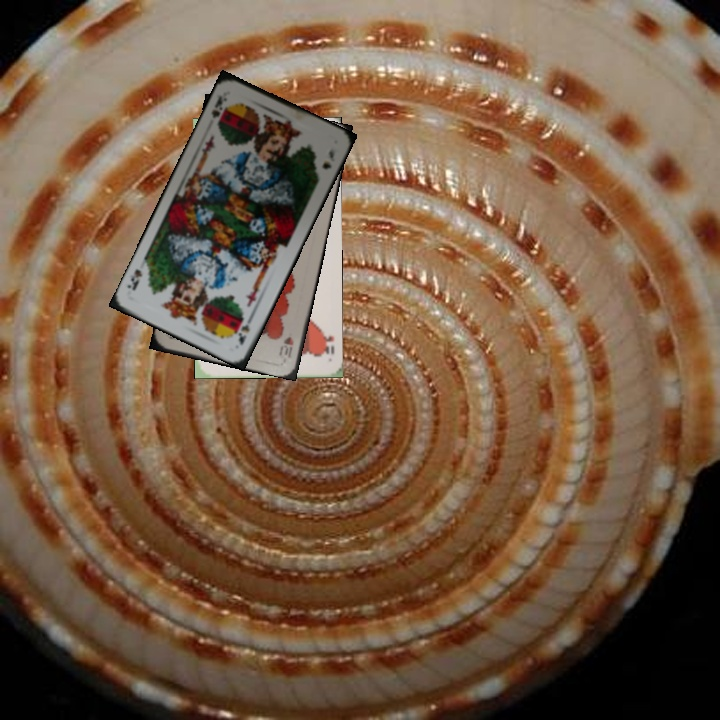H10: (276, 332, 296, 360)
HO: (318, 324, 337, 359)
SK: (234, 310, 256, 348), (207, 91, 230, 121)
